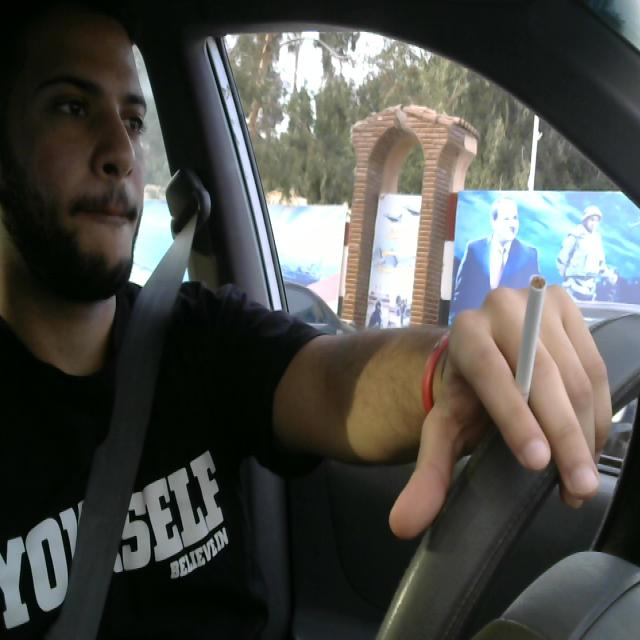smoking: (516, 272, 547, 423)
